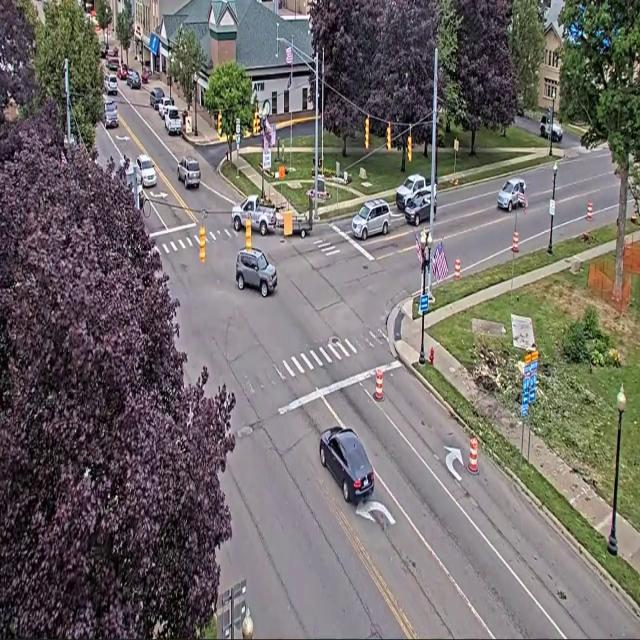car: (320, 427, 374, 503), (236, 248, 277, 297), (352, 199, 391, 241), (396, 175, 428, 211), (405, 186, 430, 225), (497, 178, 525, 212), (178, 157, 200, 188), (136, 155, 156, 187), (540, 114, 562, 142), (164, 105, 181, 135), (104, 100, 118, 128), (157, 96, 173, 119), (149, 87, 165, 110), (104, 73, 117, 95), (127, 71, 141, 88), (106, 57, 120, 73), (117, 64, 128, 79), (141, 67, 150, 83), (107, 47, 118, 58), (101, 42, 108, 59)
traffic signal: (245, 217, 251, 250), (200, 226, 205, 263), (253, 110, 259, 135), (407, 134, 412, 162), (365, 117, 369, 149), (387, 124, 391, 151), (217, 112, 221, 135)
truck: (232, 195, 276, 236)
